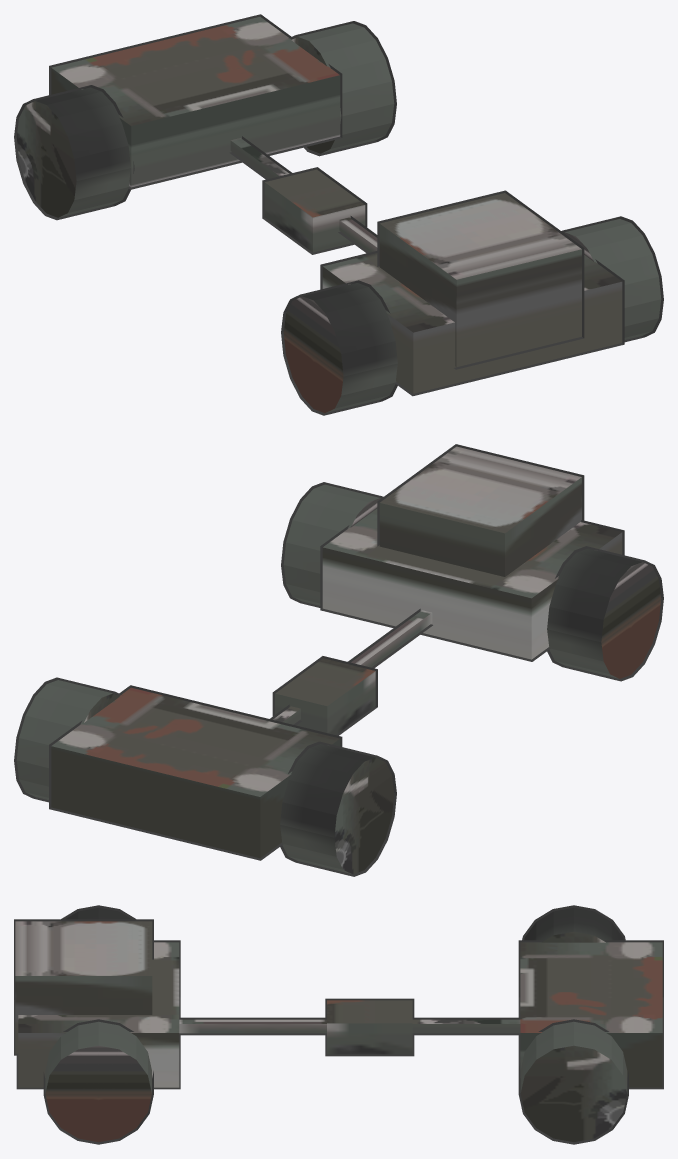
Rendered from Building_AncientRustedCarFrame.glb.
3 renders of one model, top to bottom at view 1: azimuth 30°, elevation 25°; view 2: azimuth 150°, elevation 25°; view 3: azimuth 270°, elevation 25°, orthographic. The views are drawn at different scales.
Visible parts, largest first — view 1: AncientRustedCarFrame, Outline; view 2: AncientRustedCarFrame, Outline; view 3: AncientRustedCarFrame, Outline.
Part boxes in pixels (x1,y1,x2,y2): AncientRustedCarFrame: (16, 17, 661, 413); Outline: (14, 14, 663, 415); AncientRustedCarFrame: (16, 446, 661, 874); Outline: (14, 444, 663, 876); AncientRustedCarFrame: (15, 907, 662, 1142); Outline: (14, 905, 663, 1144).
Bounding box in the file's own units: 1.92 × 0.8199 × 3.78.
2 materials, 1 textured.
